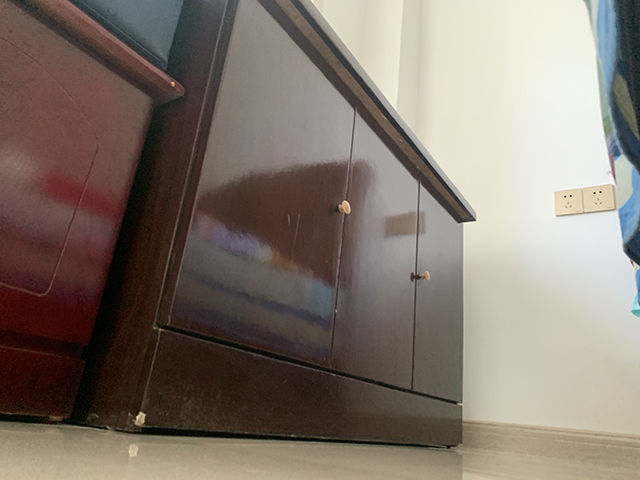cabinet: (74, 1, 478, 450), (1, 1, 188, 427)
